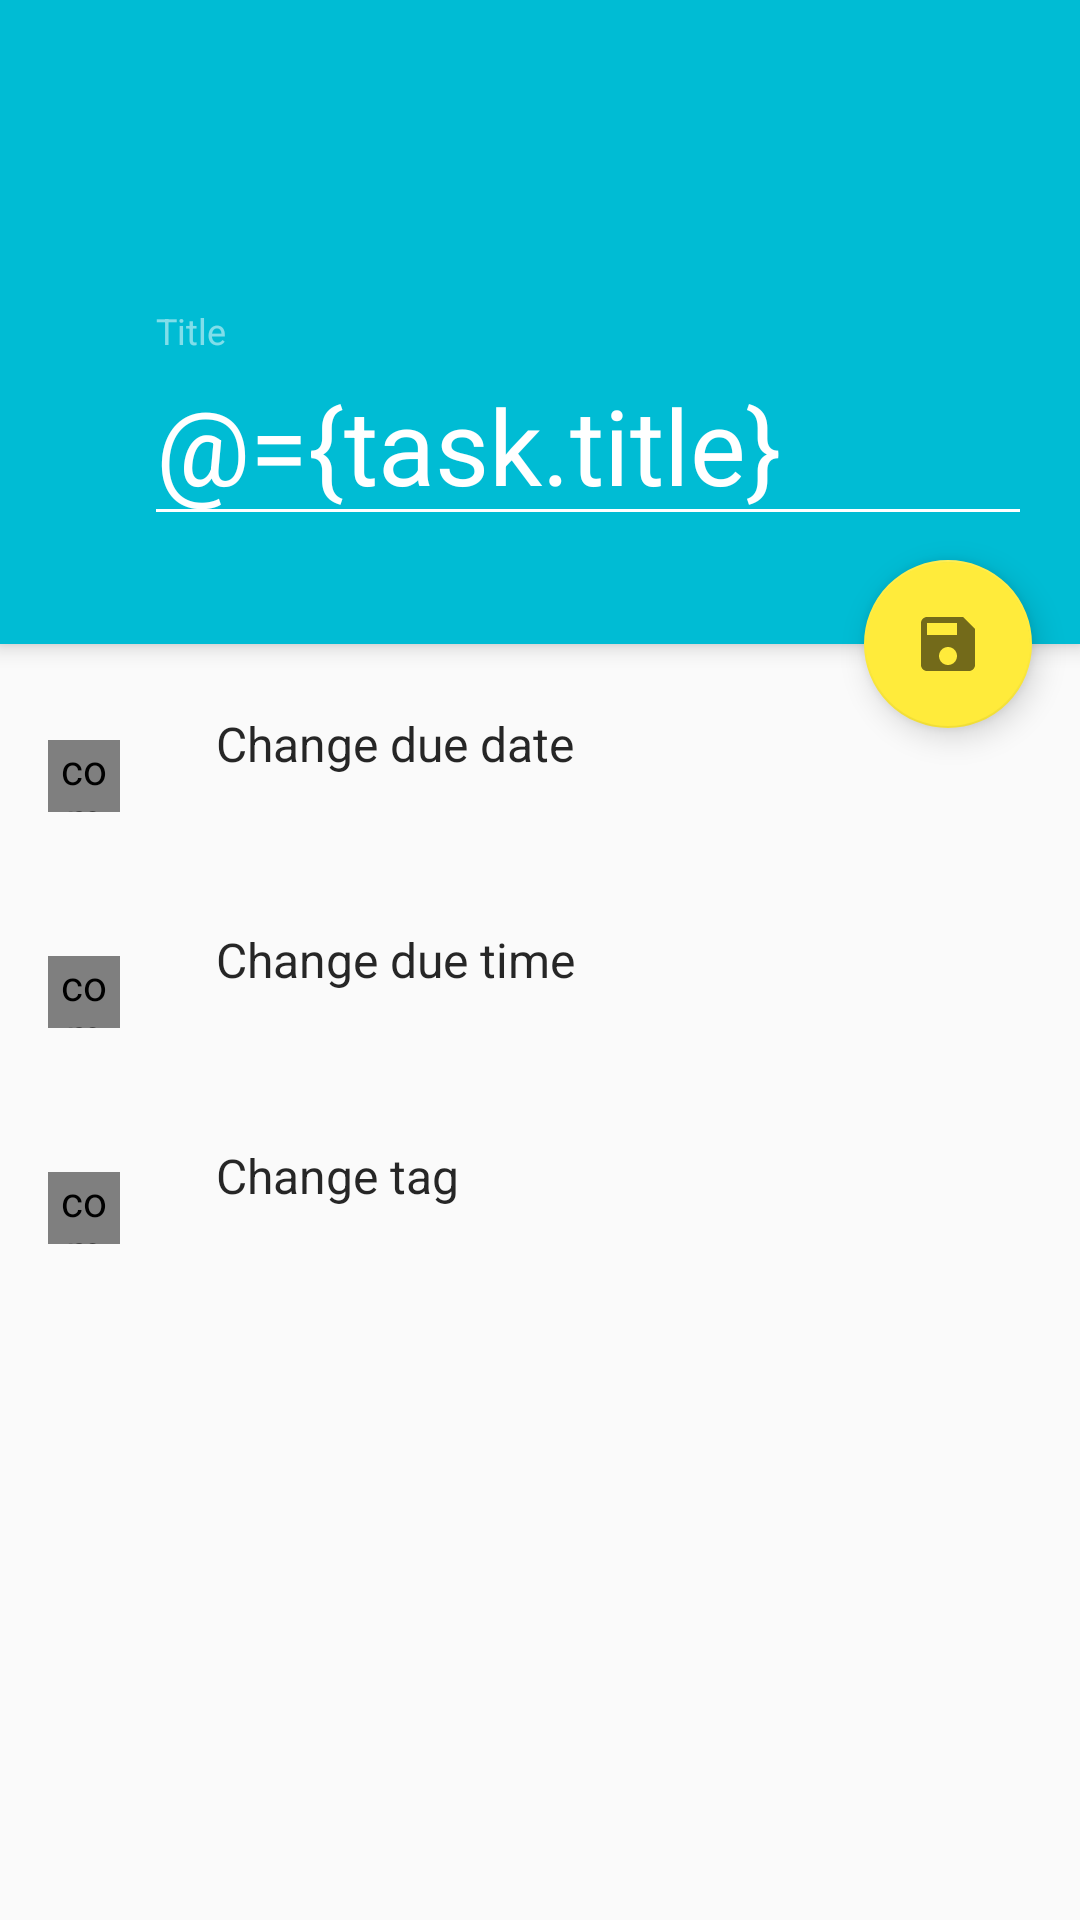

Named icons in this screenshot (1080 x 1920) and their centers, [x,y]:
save: [948,644]
